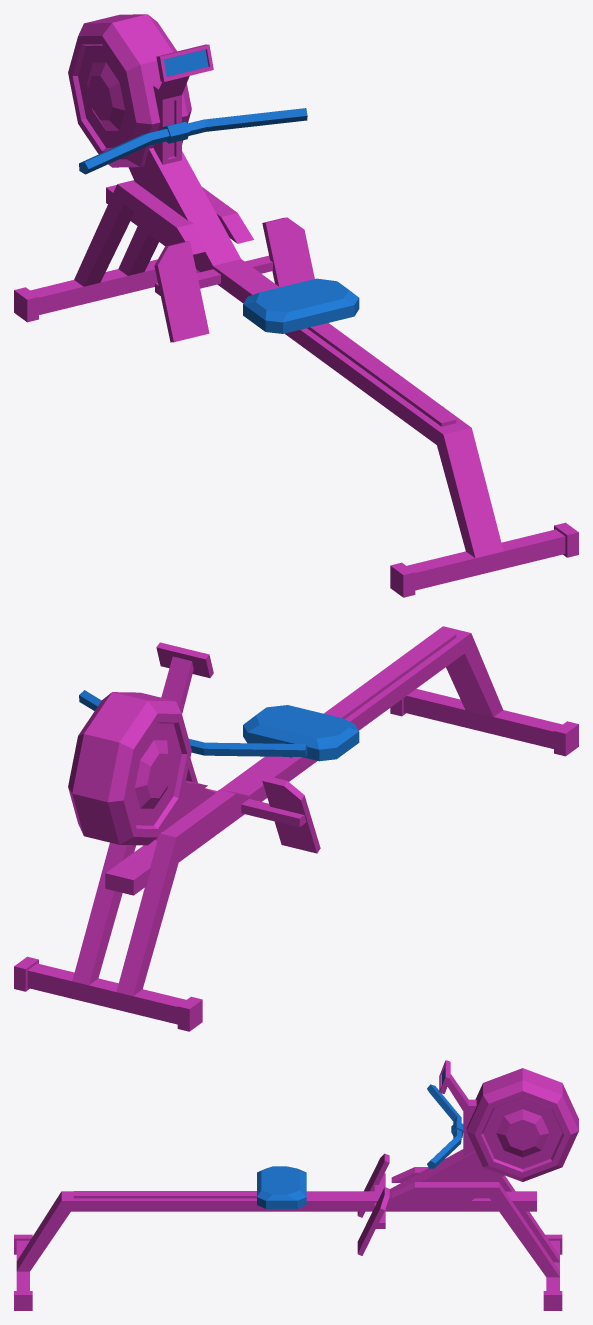
Rendered from SM_rowing_machine.fbx.
The picture shows the model from 3 angles, top to bottom: view 1: azimuth 30°, elevation 25°; view 2: azimuth 150°, elevation 25°; view 3: azimuth 270°, elevation 25°; orthographic projection. The views are drawn at different scales.
Visible parts, largest first — view 1: rowing_machine, bench_1, Cylinder; view 2: rowing_machine, bench_1, Cylinder; view 3: rowing_machine, bench_1, Cylinder.
Part boxes in pixels (x1,y1,x2,y2): rowing_machine: (14, 14, 578, 597); bench_1: (243, 278, 359, 333); Cylinder: (79, 108, 307, 174); rowing_machine: (14, 626, 578, 1031); bench_1: (243, 705, 359, 761); Cylinder: (79, 690, 307, 757); rowing_machine: (14, 1060, 578, 1310); bench_1: (257, 1166, 306, 1208); Cylinder: (427, 1084, 463, 1168).
Bounding box in the file's own units: 67.98 × 86.47 × 209.
